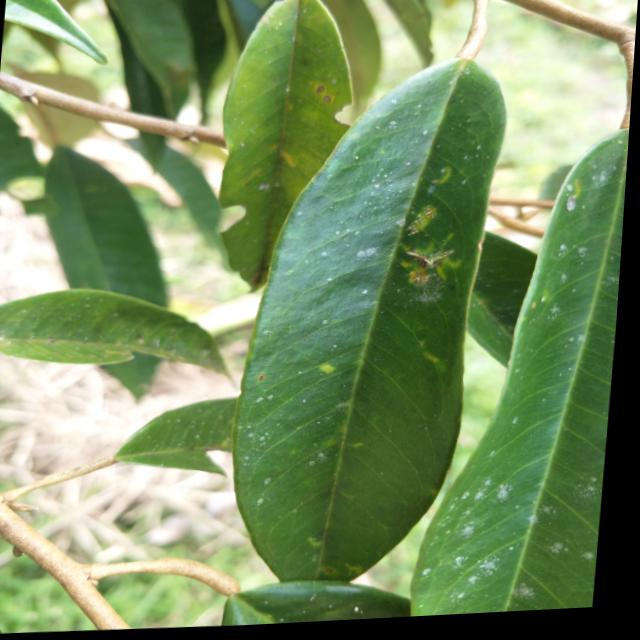Leaf Spot: (329, 143, 487, 319), (460, 486, 589, 611), (233, 393, 359, 489), (553, 163, 619, 312)
